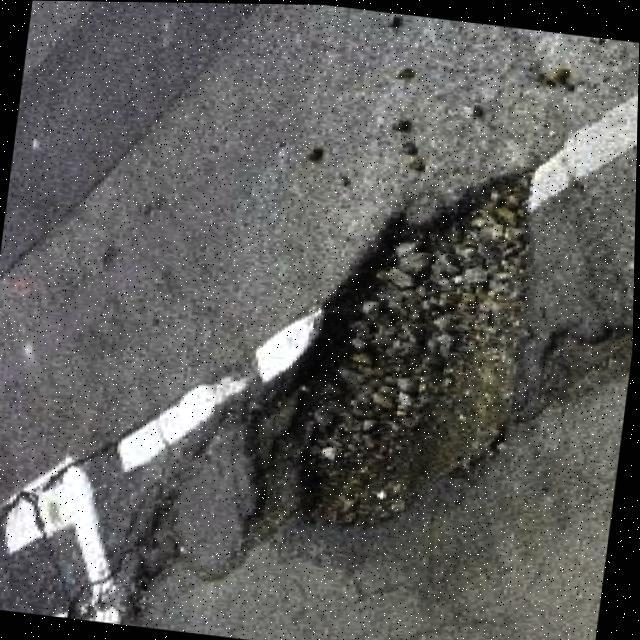pothole: (218, 140, 551, 546)
